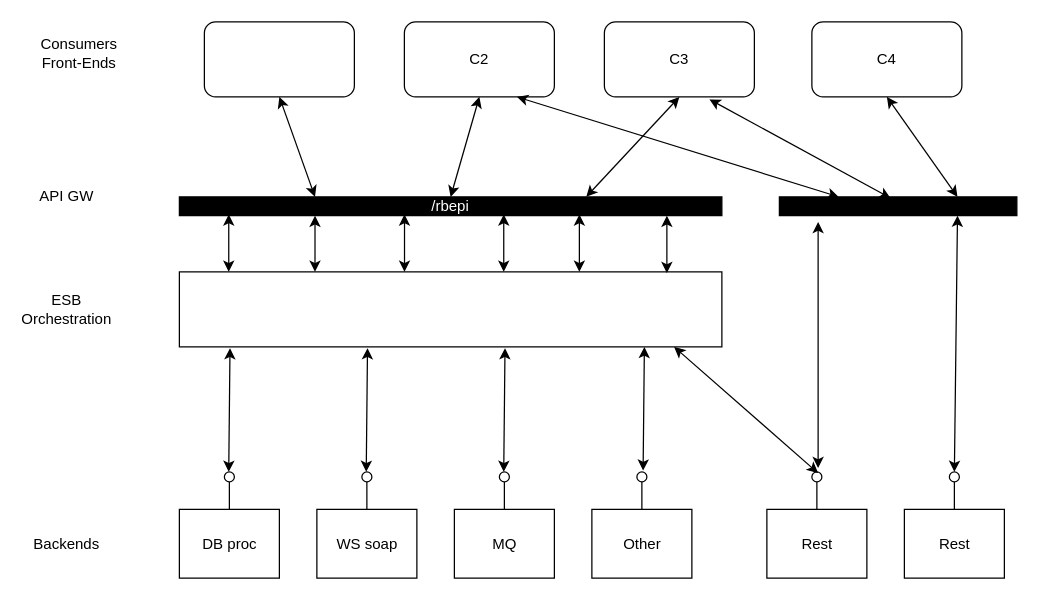
This 1039x600 diagram has some shape labels left out. The centre of each missing label's shape, as x and y in pixels:
C1: (x=278, y=59)
IMS, WMB: (x=450, y=309)
rbapl: (x=897, y=206)
